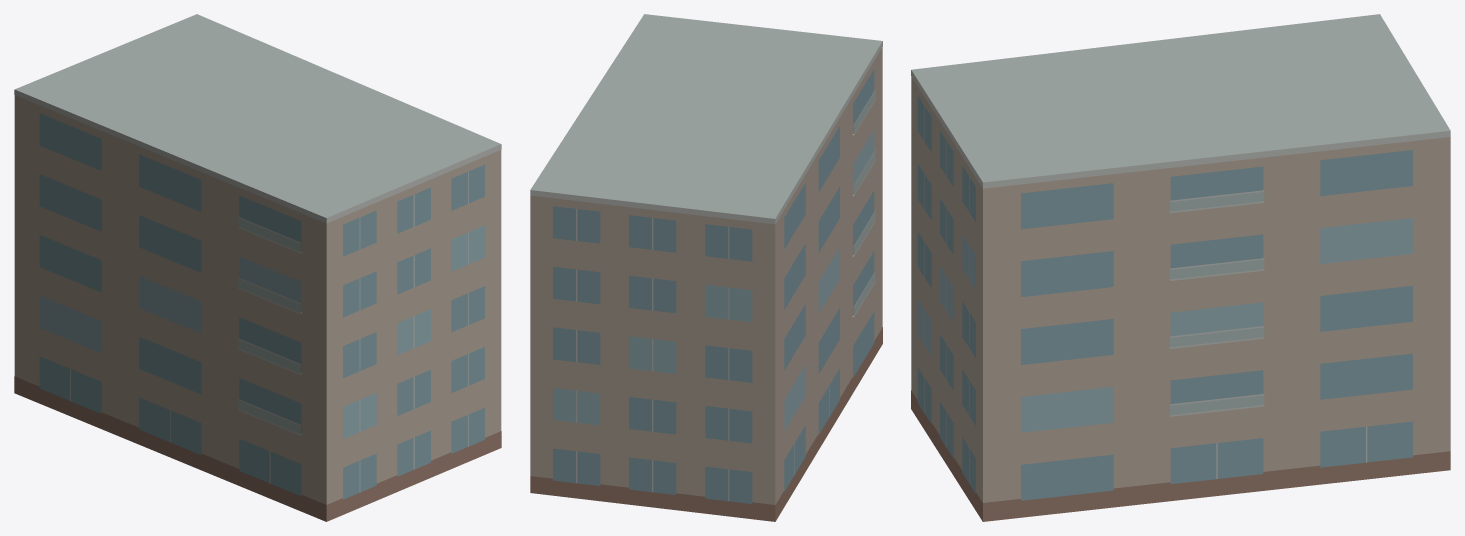
Rendered from survey-upis-32493502.glb.
The picture shows the model from 3 angles, left to right: view 1: azimuth 30°, elevation 25°; view 2: azimuth 150°, elevation 25°; view 3: azimuth 270°, elevation 25°; orthographic projection. The views are drawn at different scales.
Visible parts, largest first — view 1: survey-upis-32493502.tmp; view 2: survey-upis-32493502.tmp; view 3: survey-upis-32493502.tmp.
Boxes of the visible parts, <box> form: survey-upis-32493502.tmp: <box>14,14,501,521</box>; survey-upis-32493502.tmp: <box>530,14,882,521</box>; survey-upis-32493502.tmp: <box>911,14,1450,521</box>.
Size of the model in its own units: 14.33 by 13.45 by 19.39.
